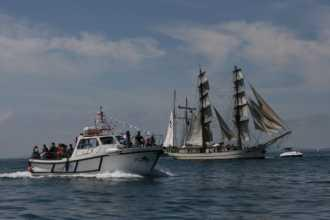fanchuan: (165, 64, 289, 159)
otherboat: (18, 107, 161, 175), (279, 146, 306, 158)
